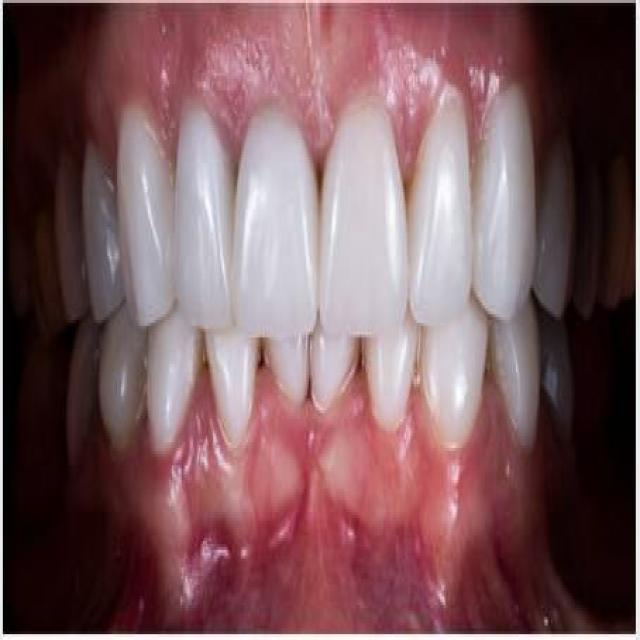Gingivitis: (328, 474, 449, 623), (190, 490, 310, 615)
